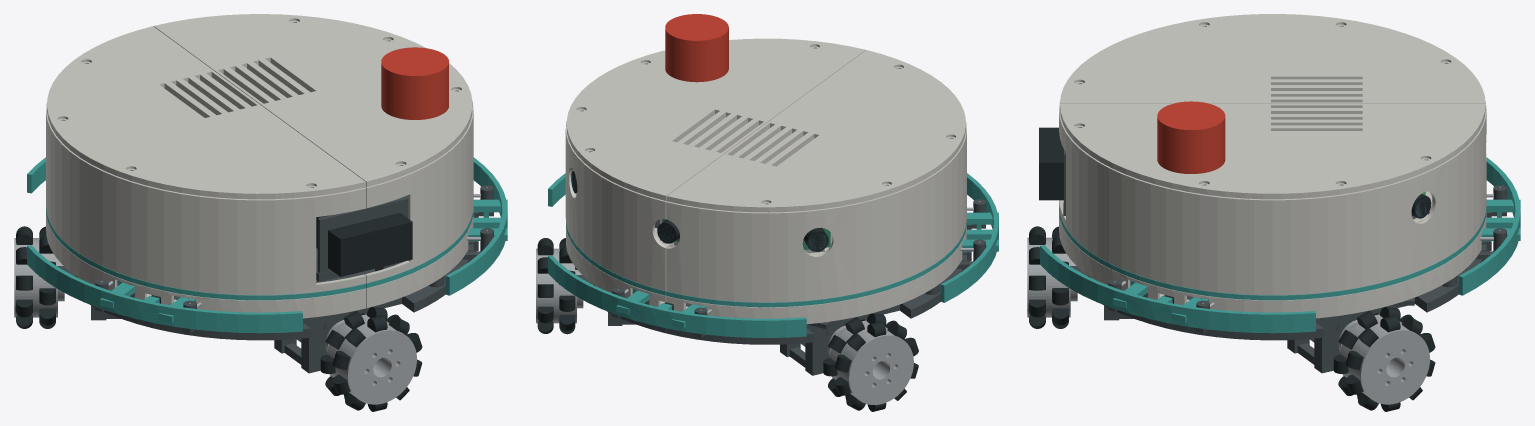
File: assembly.glb
3 renders of one model, left to right at view 1: azimuth 30°, elevation 25°; view 2: azimuth 150°, elevation 25°; view 3: azimuth 270°, elevation 25°, orthographic. The views are drawn at different scales.
Parts seen in each view (by area): view 1: shell-left, lid-left, lid-right, shell-right, bumper-210, wheel-core-270, stop-button, main-rocker-actuator, bumper-330, wheel-rollers-270, wheel-rollers-150, main-switch-panel (+9 smaller); view 2: shell-left, lid-left, lid-right, shell-right, bumper-90, wheel-core-150, stop-button, wheel-rollers-150, bumper-210, deck-left, wheel-rollers-30, trim-left (+6 smaller); view 3: shell-right, lid-left, lid-right, bumper-330, wheel-core-30, stop-button, bumper-90, wheel-rollers-30, deck-right, trim-right, wheel-rollers-270, main-rocker-actuator (+4 smaller).
Boxes of the visible parts, x1=… form: shell-left: x1=46, y1=101, x2=366, y2=318; lid-left: x1=47, y1=26, x2=365, y2=199; lid-right: x1=153, y1=14, x2=472, y2=187; shell-right: x1=365, y1=102, x2=473, y2=307; bumper-210: x1=27, y1=245, x2=302, y2=333; wheel-core-270: x1=326, y1=314, x2=416, y2=404; stop-button: x1=381, y1=47, x2=448, y2=119; main-rocker-actuator: x1=328, y1=213, x2=412, y2=276; bumper-330: x1=445, y1=157, x2=507, y2=295; wheel-rollers-270: x1=320, y1=307, x2=422, y2=411; wheel-rollers-150: x1=16, y1=226, x2=55, y2=328; main-switch-panel: x1=316, y1=197, x2=408, y2=281; shell-left: x1=666, y1=120, x2=966, y2=324; lid-left: x1=667, y1=50, x2=965, y2=212; lid-right: x1=566, y1=38, x2=865, y2=200; shell-right: x1=565, y1=122, x2=667, y2=306; bumper-90: x1=548, y1=255, x2=806, y2=337; wheel-core-150: x1=829, y1=320, x2=913, y2=404; stop-button: x1=665, y1=14, x2=728, y2=82; wheel-rollers-150: x1=823, y1=313, x2=918, y2=411; bumper-210: x1=940, y1=173, x2=998, y2=302; deck-left: x1=666, y1=251, x2=964, y2=344; wheel-rollers-30: x1=537, y1=238, x2=575, y2=334; trim-left: x1=666, y1=221, x2=966, y2=307; shell-right: x1=1059, y1=110, x2=1486, y2=318; lid-left: x1=1060, y1=14, x2=1485, y2=103; lid-right: x1=1060, y1=104, x2=1485, y2=199; bumper-330: x1=1040, y1=245, x2=1315, y2=333; wheel-core-30: x1=1339, y1=314, x2=1429, y2=404; stop-button: x1=1157, y1=101, x2=1225, y2=173; bumper-90: x1=1458, y1=157, x2=1520, y2=295; wheel-rollers-30: x1=1333, y1=307, x2=1435, y2=411; deck-right: x1=1070, y1=259, x2=1484, y2=340; trim-right: x1=1059, y1=207, x2=1486, y2=300; wheel-rollers-270: x1=1029, y1=226, x2=1068, y2=328; main-rocker-actuator: x1=1039, y1=127, x2=1063, y2=200.
Size of the model in its own units: 0.292 by 0.1716 by 0.2906.
